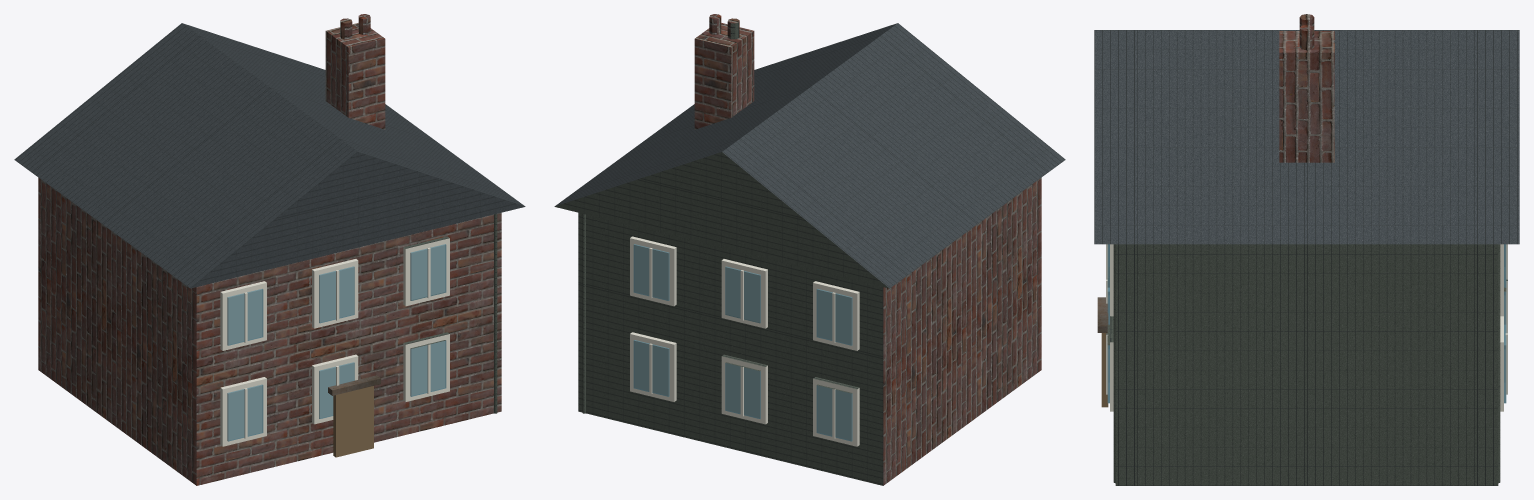
File: damaged1.gltf
3 renders of one model, left to right at view 1: azimuth 30°, elevation 25°; view 2: azimuth 150°, elevation 25°; view 3: azimuth 270°, elevation 25°, orthographic. The views are drawn at different scales.
Parts seen in each view (by area): view 1: britaincottage_damaged1; view 2: britaincottage_damaged1; view 3: britaincottage_damaged1.
Boxes of the visible parts, x1=… form: britaincottage_damaged1: x1=14, y1=14, x2=525, y2=485; britaincottage_damaged1: x1=554, y1=14, x2=1065, y2=485; britaincottage_damaged1: x1=1094, y1=14, x2=1519, y2=485.
Size of the model in its own units: 22 by 22 by 20.
8 materials, 5 textured.
